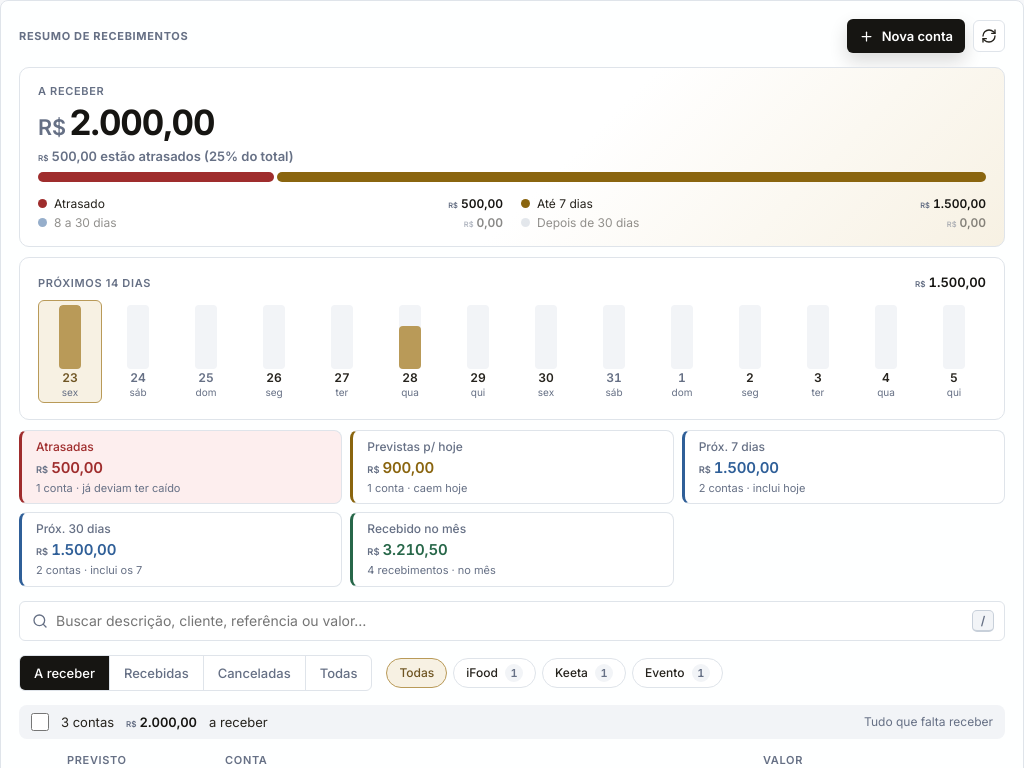
Test case: Contas a Receber — panorama e lista › o cartão Atrasadas filtra a lista e a pílula remove o filtro
Click the button "Atrasadas R$500,00 1 conta · já deviam ter caído" at (65, 447), box [19,430,342,504]
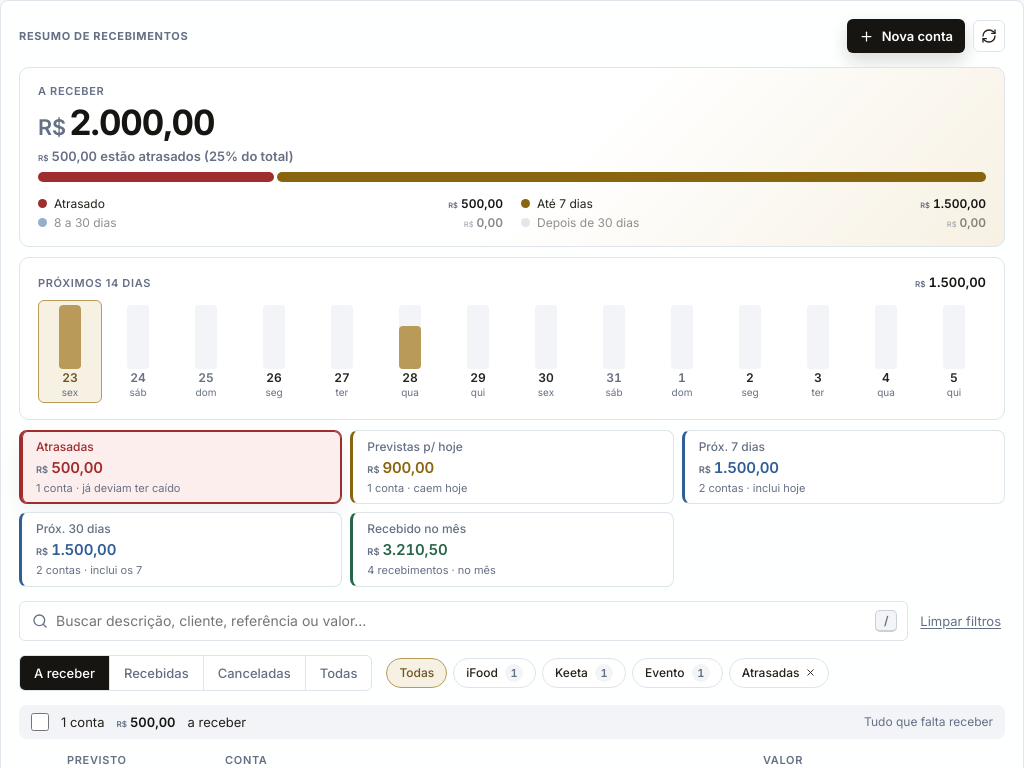
Expected: the text "Fatura Keeta semana 4" is not shown
Click the button with aria-label "Remover filtro Atrasadas" at (779, 673), box [729,658,829,688]
(page scrolled)
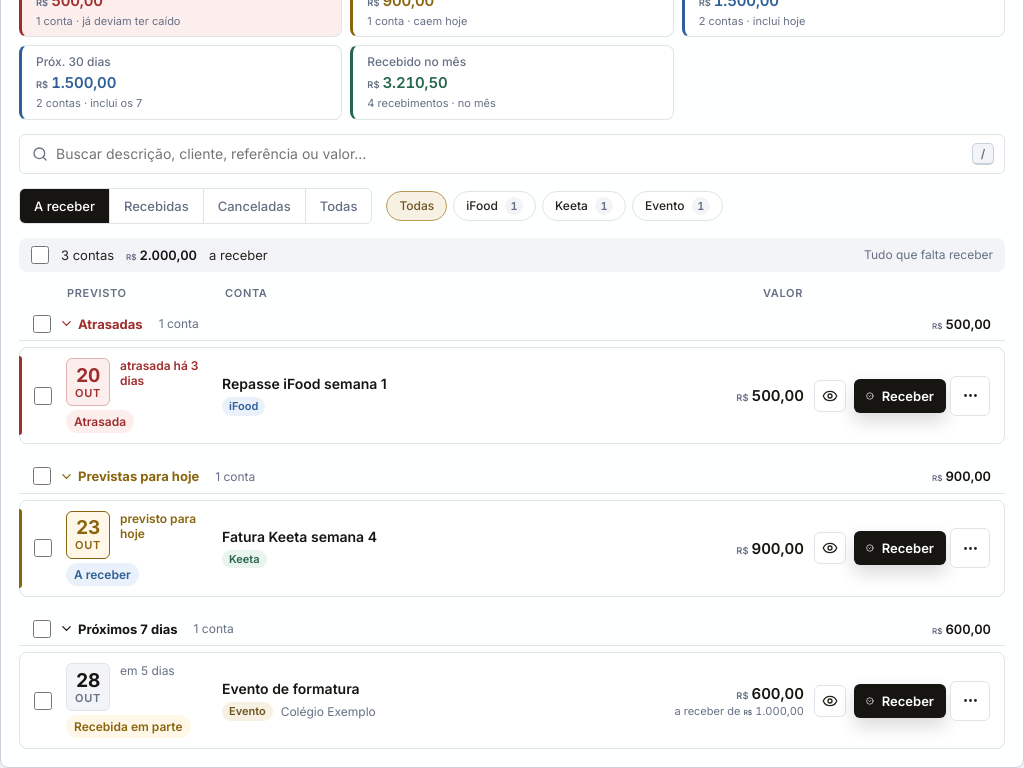
Expected: the text "Fatura Keeta semana 4" is shown, [222,528,377,545]
